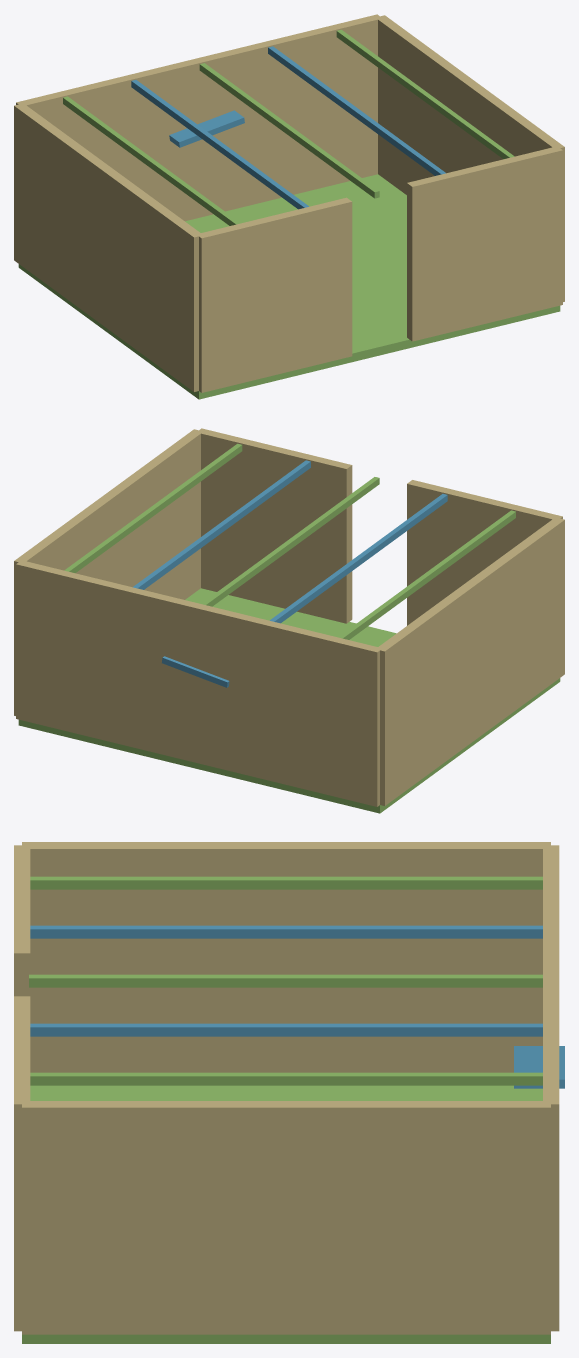
Rendered from wind_station_b.glb.
3 renders of one model, top to bottom at view 1: azimuth 30°, elevation 25°; view 2: azimuth 150°, elevation 25°; view 3: azimuth 270°, elevation 25°, orthographic. The views are drawn at different scales.
Visible parts, largest first — view 1: wall_north, wall_west, wall_south_right, wall_south_left, wall_east, floor, ceiling_beam_0, ceiling_beam_2, ceiling_beam_-1, ceiling_beam_1, ceiling_beam_-2, purpose_windmill_station; view 2: wall_north, wall_west, wall_south_right, wall_east, wall_south_left, floor, ceiling_beam_0, ceiling_beam_2, ceiling_beam_-1, ceiling_beam_1, ceiling_beam_-2, purpose_windmill_station; view 3: wall_east, wall_west, floor, ceiling_beam_0, ceiling_beam_-2, ceiling_beam_-1, ceiling_beam_1, ceiling_beam_2, wall_north, wall_south_right, wall_south_left, purpose_windmill_station.
Part boxes in pixels (x1,y1,x2,y2): wall_north: (16, 14, 382, 221); wall_west: (14, 104, 203, 391); wall_south_right: (407, 146, 562, 341); wall_south_left: (199, 197, 352, 392); wall_east: (377, 15, 564, 301); floor: (18, 174, 560, 399); ceiling_beam_0: (199, 63, 379, 198); ceiling_beam_2: (336, 29, 514, 159); ceiling_beam_-1: (131, 80, 308, 209); ceiling_beam_1: (268, 46, 445, 175); ceiling_beam_-2: (63, 96, 240, 225); purpose_windmill_station: (169, 110, 244, 147); wall_north: (16, 561, 382, 806); wall_west: (376, 517, 564, 805); wall_south_right: (197, 428, 352, 623); wall_east: (14, 429, 203, 715); wall_south_left: (407, 480, 562, 625); floor: (18, 588, 560, 813); ceiling_beam_0: (201, 477, 379, 606); ceiling_beam_2: (64, 443, 242, 573); ceiling_beam_-1: (270, 494, 447, 623); ceiling_beam_1: (133, 460, 310, 589); ceiling_beam_-2: (338, 510, 515, 639); purpose_windmill_station: (162, 656, 229, 687); wall_east: (22, 1101, 550, 1334); wall_west: (22, 842, 550, 1072); floor: (22, 1085, 550, 1343); ceiling_beam_0: (29, 974, 542, 987); ceiling_beam_-2: (30, 876, 542, 889); ceiling_beam_-1: (30, 925, 542, 938); ceiling_beam_1: (30, 1023, 542, 1036); ceiling_beam_2: (30, 1072, 542, 1085); wall_north: (543, 845, 559, 1331); wall_south_right: (14, 996, 30, 1331); wall_south_left: (14, 845, 30, 996); purpose_windmill_station: (514, 1046, 564, 1088).
Size of what is drawn, in the model's own units: 13.55 by 5.7 by 11.88.
